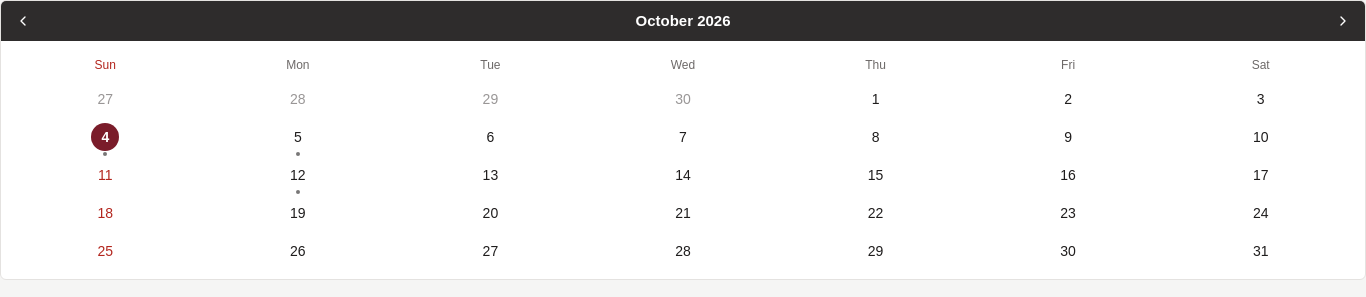
Scenario: loads another month when it is opened
Click the button named "Next month".
click(1343, 21)  # box 1327,5 -> 1359,37
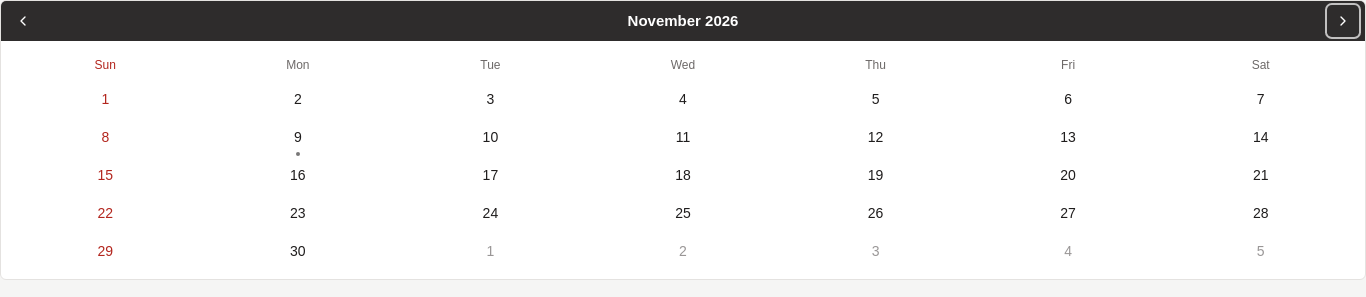
Expected: the link named "November 9, 2026, 1 appointment" is shown, 294,129 -> 302,156
Now the heading "November 2026" is shown, box 628,10 -> 738,32
